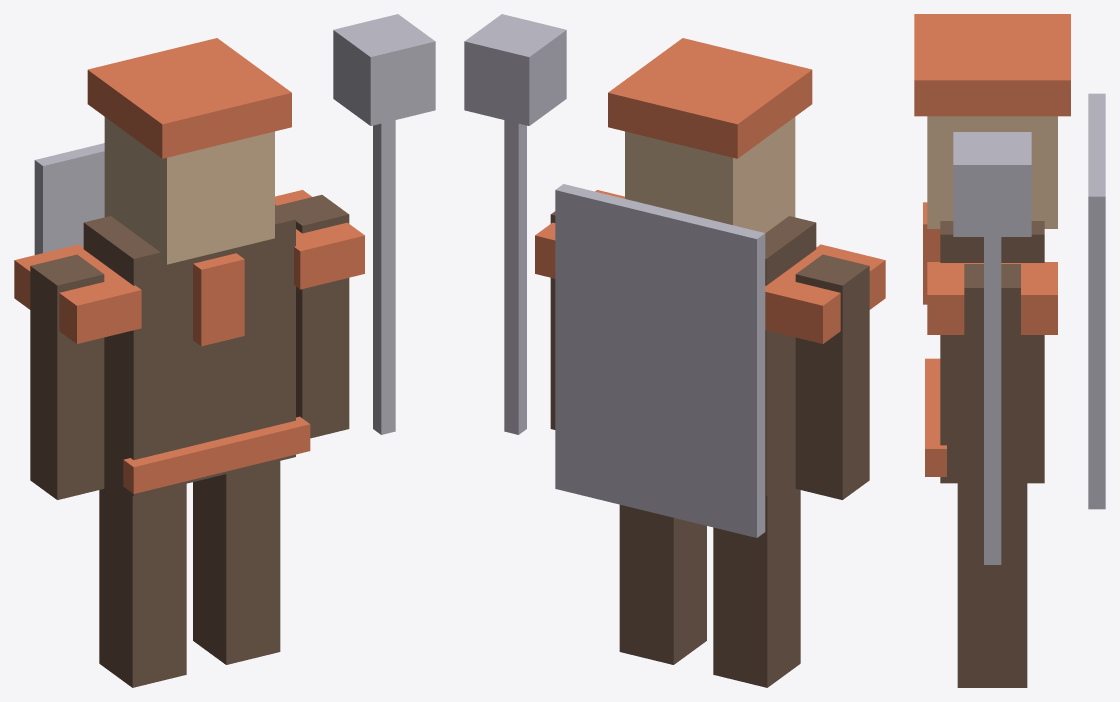
File: 20_auren_glassroot_fixer_of_dormitory.glb
3 renders of one model, left to right at view 1: azimuth 30°, elevation 25°; view 2: azimuth 150°, elevation 25°; view 3: azimuth 270°, elevation 25°, orthographic. The views are drawn at different scales.
Visible parts, largest first — view 1: Auren Glassroot, Fixer of Dormitory; view 2: Auren Glassroot, Fixer of Dormitory; view 3: Auren Glassroot, Fixer of Dormitory.
Boxes of the visible parts, x1,y1,x2,y2 form: Auren Glassroot, Fixer of Dormitory: (14, 14, 435, 687); Auren Glassroot, Fixer of Dormitory: (464, 14, 885, 687); Auren Glassroot, Fixer of Dormitory: (914, 14, 1105, 687).
Bounding box in the file's own units: 1.07 × 1.58 × 0.4558.
